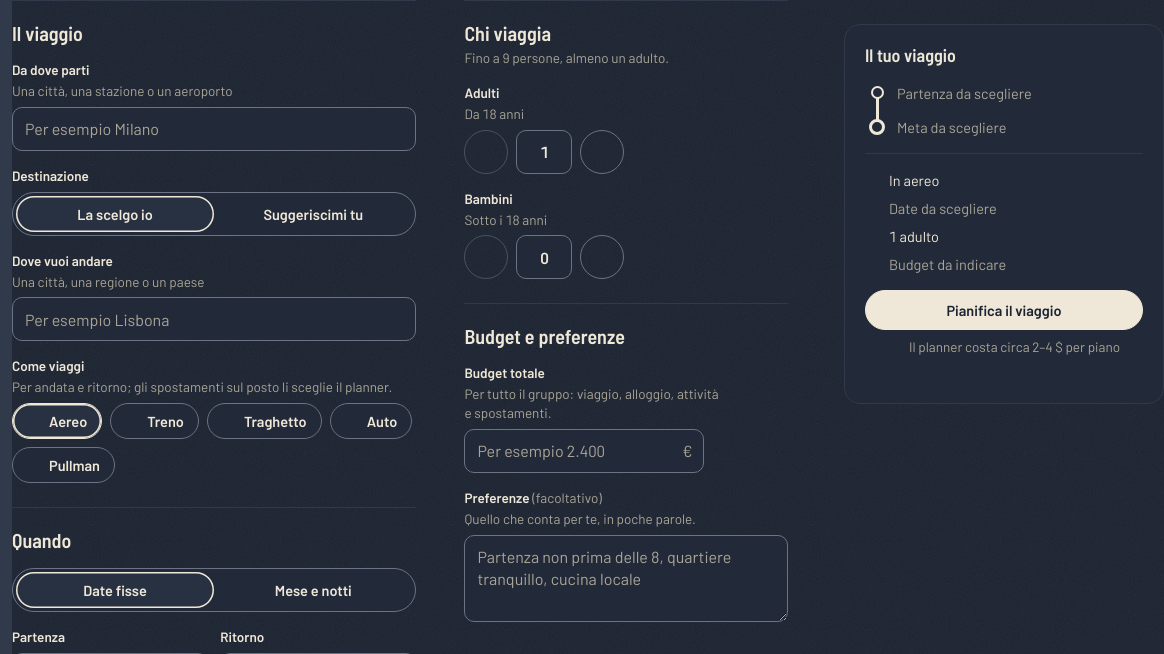
it: RequestForm › clears a field's error as soon as it is edited
The image size is (1164, 654).
Click the button "Pianifica il viaggio".
click(1004, 310)  # box [865,290,1143,330]
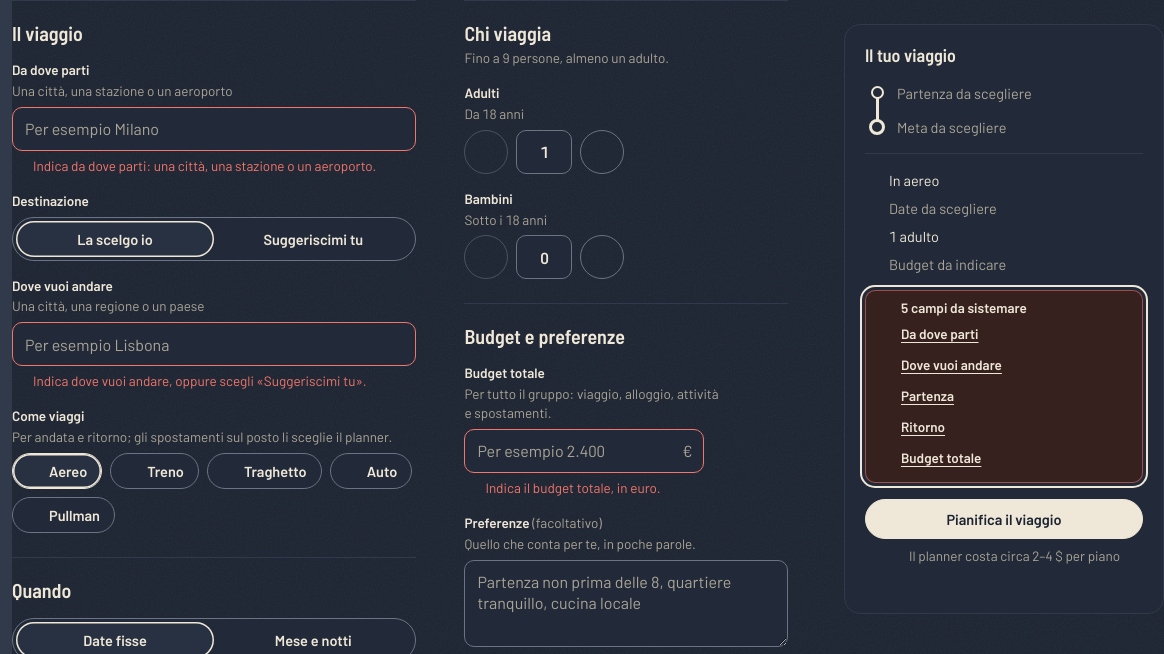
Type "Milano" into the field labelled "Da dove parti".
click(214, 129); type("Milano")  # box [12,107,416,151]
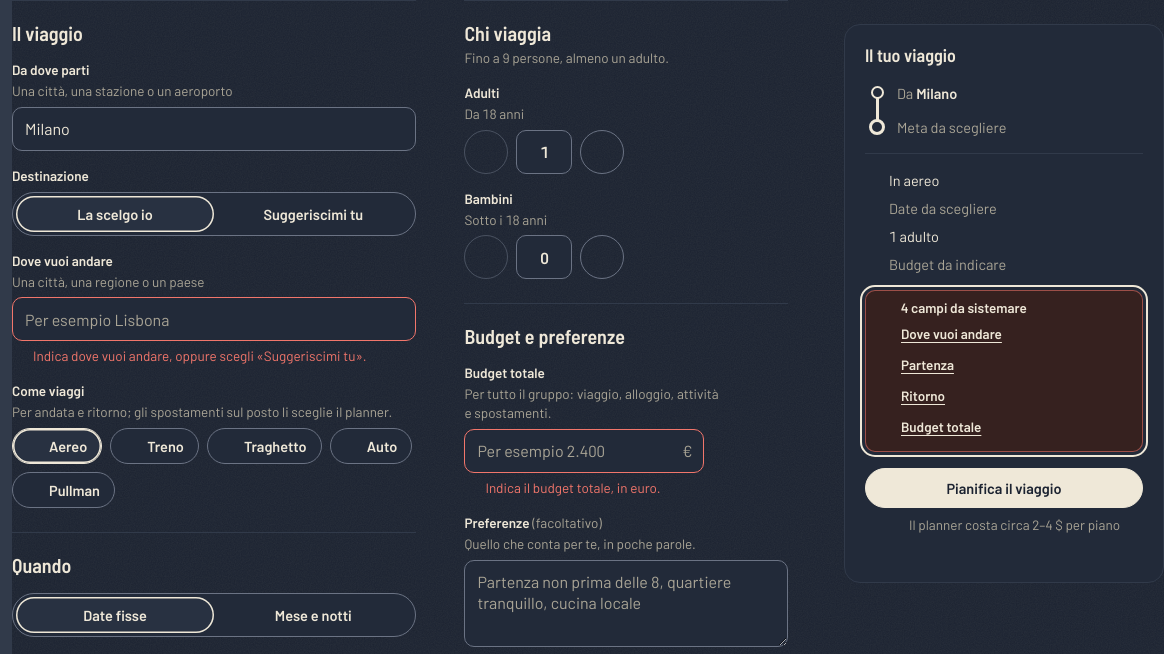
expect the text "4 campi da sistemare" is shown: met, box [901,299,1027,316]
